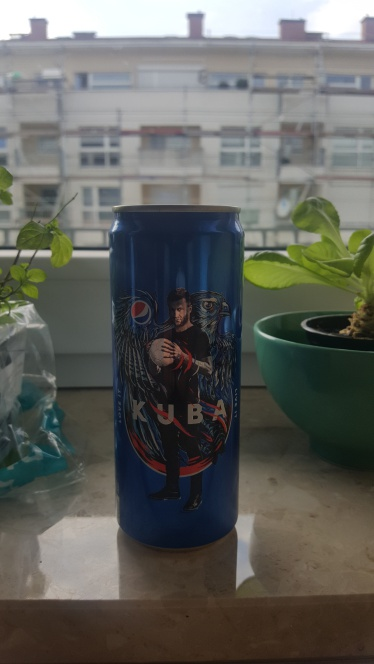pepsi: (103, 194, 251, 555)
